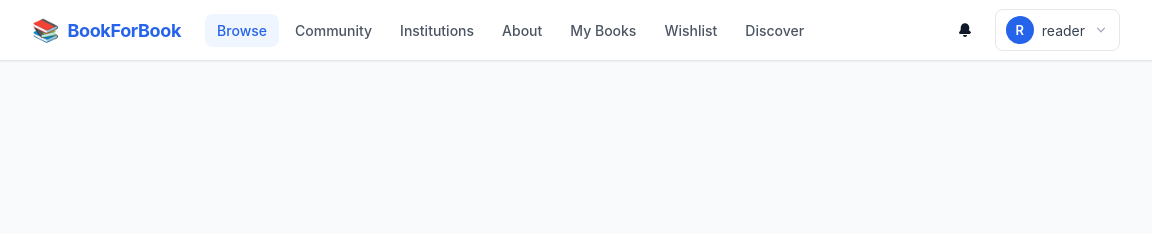
Test: Navbar › opens notifications dropdown and renders recent items
This screenshot has width=1152, height=234.
Click the button named "notifications" at [965, 30], box [948,12,983,48]
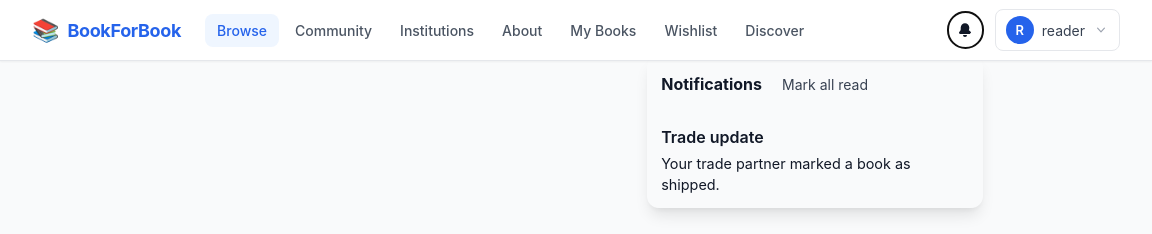
Expected: the text "Trade update" is shown, [661,127,764,147]
Expected: the text "Your trade partner marked a book as shipped." is shown, [661,155,911,193]
